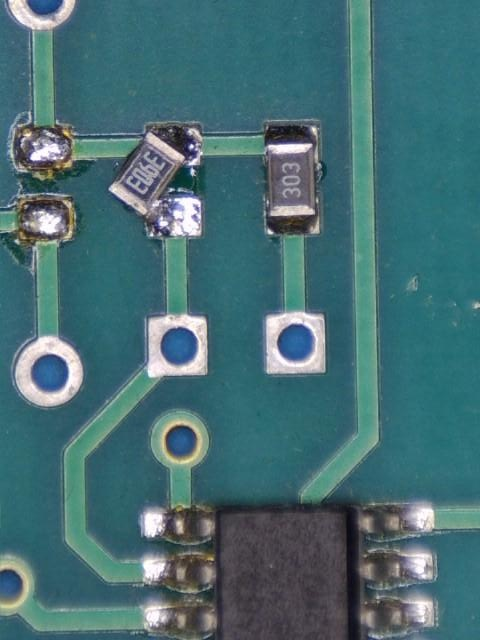pcb_defect: (106, 122, 204, 238)
